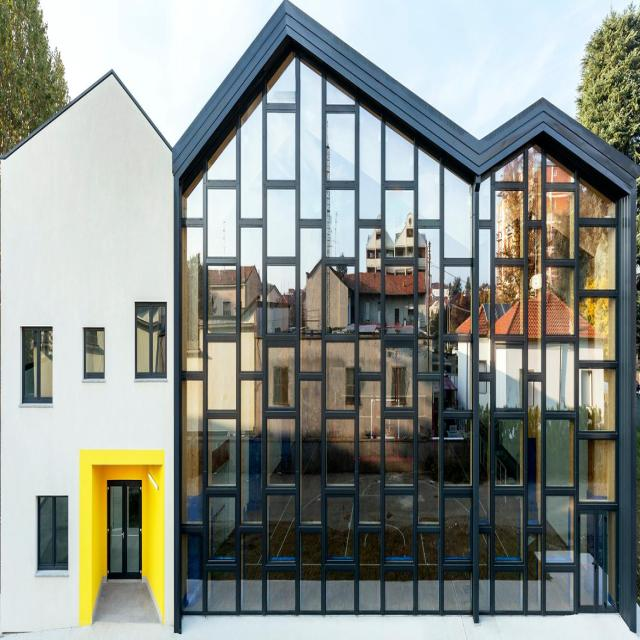door: (109, 478, 143, 580)
plant: (577, 3, 640, 177)
wall: (0, 0, 637, 637)
windows: (183, 59, 622, 607), (38, 495, 68, 572), (24, 325, 53, 404), (138, 304, 168, 378), (85, 331, 105, 382)
